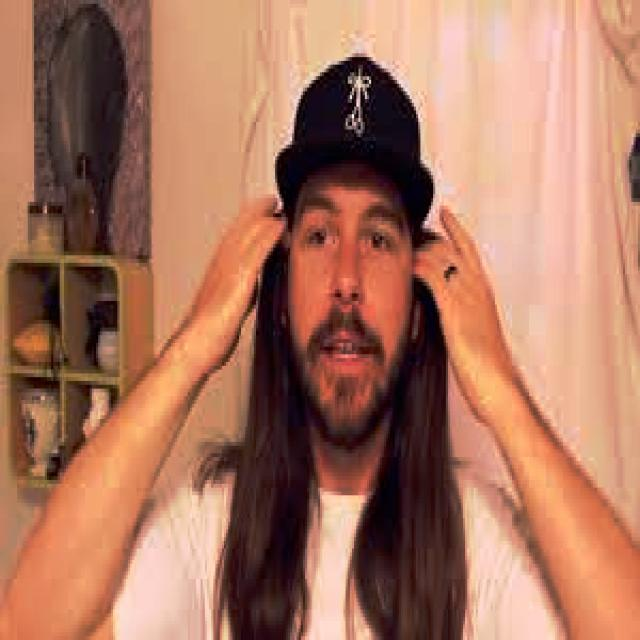TOPI: (267, 50, 437, 240)
